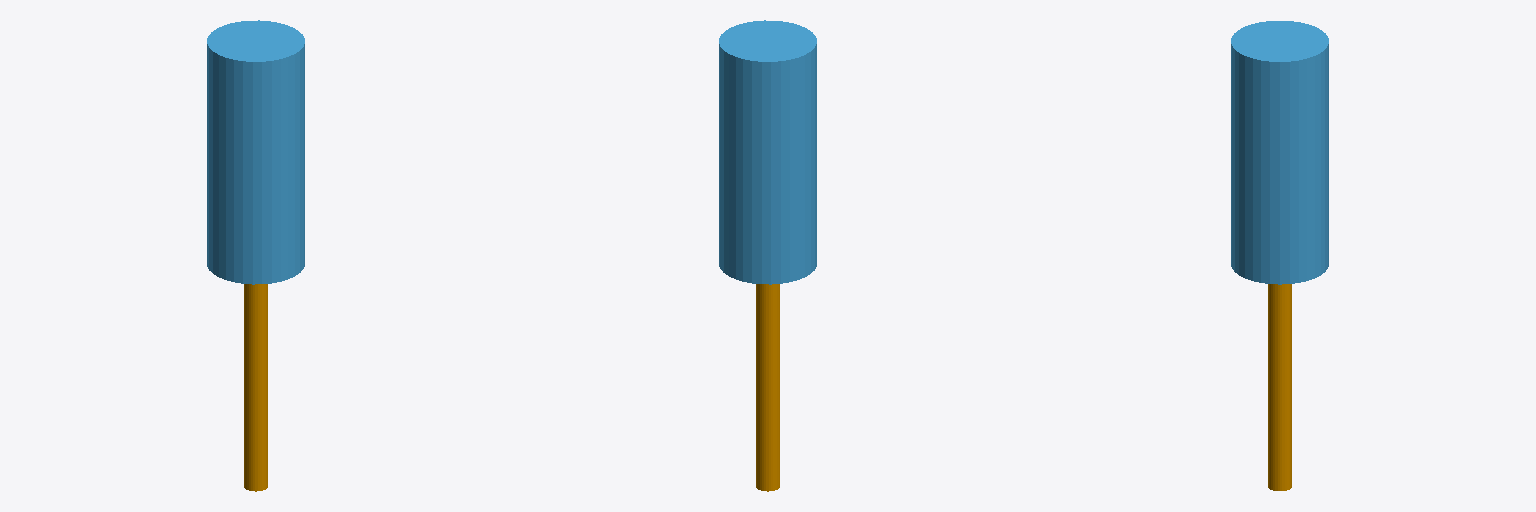
robot.urdf — screwdriver_on_the_table:
<?xml version="1.0" ?>
<!-- this is the one without any virtual joints and links -->
<robot name="screwdriver_on_the_table">
<link name="screwdriver_stick">
    <inertial>
      <mass value="0.05"/>
      <!-- <friction value="1.0"/> -->
      <inertia ixx="0.000041979" ixy="0.0" ixz="0.0" iyy="0.000041979" iyz="0.0" izz="0.000000625"/>
    </inertial>
    <visual>
        <origin rpy="0 0 0" xyz="0 0 0.05"/>
        <geometry>
            <cylinder radius="0.005" length="0.1"/>
        </geometry>
        <!-- <material name="White">
	 	    <color rgba="0.9 0.9 0.9 0.5"/>
        </material> -->
    </visual>
    <collision>
        <origin rpy="0 0 0" xyz="0 0 0.05"/>
        <geometry>
            <cylinder radius="0.005" length="0.1"/>
        </geometry>
    </collision>
</link>

<gazebo reference="screwdriver_body">
    <mu1>0.385029</mu1>
    <mu2>0.585606</mu2>
    <!-- Isaac Sim maps mu1/mu2 to PhysX static/dynamic friction during URDF→USD import -->
</gazebo>

<joint name="screwdriver_stick_body_joint" type="fixed">
    <parent link="screwdriver_stick"/>
    <child link="screwdriver_body"/>
    <origin rpy="0 0 0" xyz="0 0 0.1"/> 
    <axis xyz="0 0 1"/>
</joint>

<link name="screwdriver_body">
    <inertial>
      <mass value="0.178945"/>
      <inertia ixx="0.000167078" ixy="0.0" ixz="0.0" iyy="0.000167078" iyz="0.0" izz="0.000035913"/>
    </inertial>
    <visual>
        <origin rpy="0 0 0" xyz="0 0 0.05"/>
        <geometry>
            <cylinder radius="0.020035" length="0.1"/>
        </geometry>
        <!-- <material name="Red1">
	 	    <color rgba="0.9 0. 0. 0.5"/>
        </material> -->
    </visual>
    <collision>
        <origin rpy="0 0 0" xyz="0 0 0.05"/>
        <geometry>
            <cylinder radius="0.020035" length="0.1"/>
        </geometry>
    </collision>
</link>

<!-- <joint name="screwdriver_body_cap_joint" type="revolute">
    <parent link="screwdriver_body"/>
    <child link="screwdriver_cap"/>
    <origin rpy="0 0 0" xyz="0 0 0.1"/> 
    <axis xyz="0 0 1"/>
</joint>

<link name="screwdriver_cap">
    <inertial>
      <mass value="0.005"/>
      <inertia ixx="0.00001" ixy="0.0" ixz="0.0" iyy="0.000005" iyz="0.0" izz="0.000005"/>
    </inertial>
    <visual>
        <origin rpy="0 0 0" xyz="0 0 0.0006"/>
        <geometry>
            <cylinder radius="0.02" length="0.001"/>
        </geometry>
        <material name="Yellow">
	 	    <color rgba="0.9 0.9 0. 1.0"/>
        </material>
    </visual>
    <collision>
        <origin rpy="0 0 0" xyz="0 0 0.0005"/>
        <geometry>
            <cylinder radius="0.02" length="0.001"/>
        </geometry>
    </collision>
</link> -->

</robot>

--- Facts derived from the render (not from the file) ---
The picture shows the robot from 3 angles, left to right: view 1: azimuth 30°, elevation 25°; view 2: azimuth 150°, elevation 25°; view 3: azimuth 270°, elevation 25°; orthographic projection.
Robot: screwdriver_on_the_table — 2 links, 1 joints (1 fixed); root link screwdriver_stick; default pose: every joint at zero.
Visible links, largest first — view 1: screwdriver_body, screwdriver_stick; view 2: screwdriver_body, screwdriver_stick; view 3: screwdriver_body, screwdriver_stick.
Boxes of the visible links, <box> form: screwdriver_body: <box>207,20,304,284</box>; screwdriver_stick: <box>244,284,267,491</box>; screwdriver_body: <box>719,20,816,284</box>; screwdriver_stick: <box>756,284,779,491</box>; screwdriver_body: <box>1231,21,1328,284</box>; screwdriver_stick: <box>1268,284,1291,490</box>.
Bounding box of the posed robot: 0.0401 × 0.0401 × 0.2 m (x, y, z).
Geometry: primitives only (box / cylinder / sphere), no mesh files.
